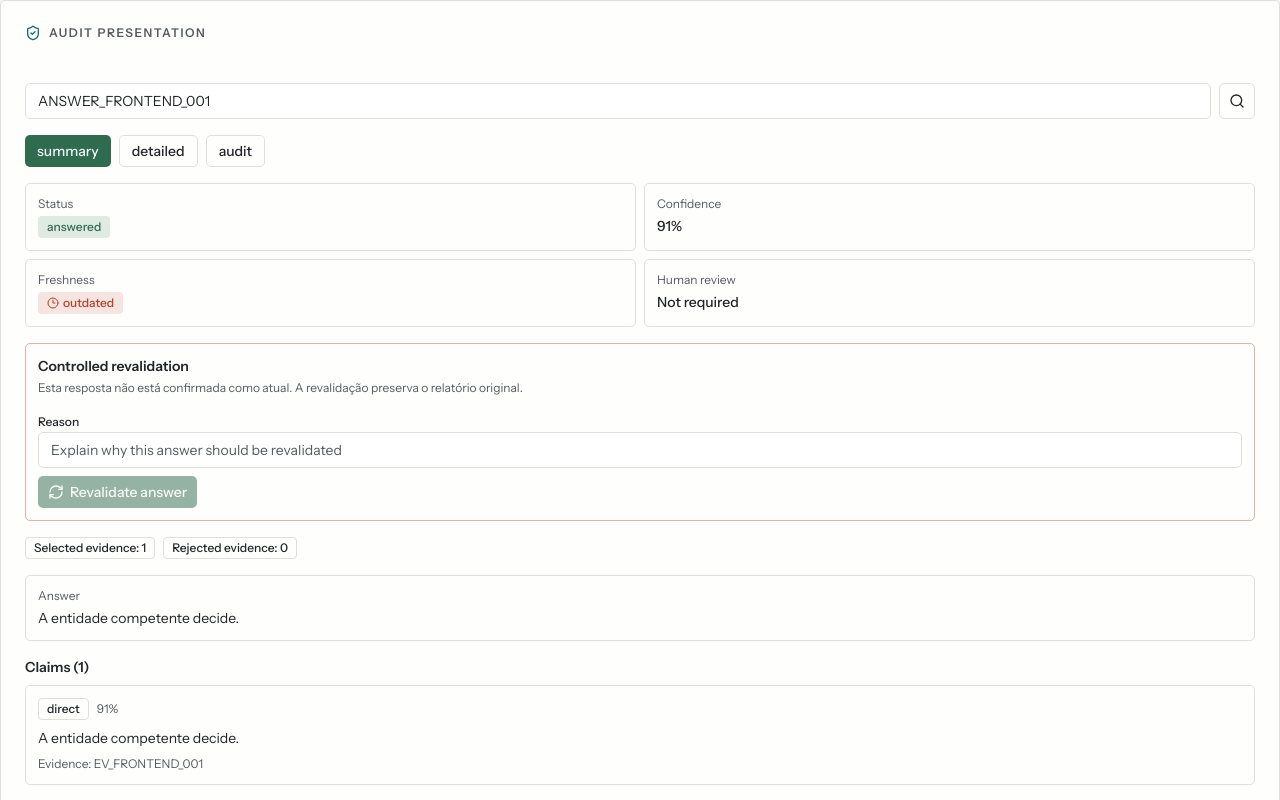
Test: AuditPresentationPanel › revalidates a stale audit and exposes the new identifiers
Expected: the text "outdated" is shown, [38,292,123,314]
Type "Document changed." into the field labelled "Reason". click: (640, 450)
box: [38,432,1242,468]
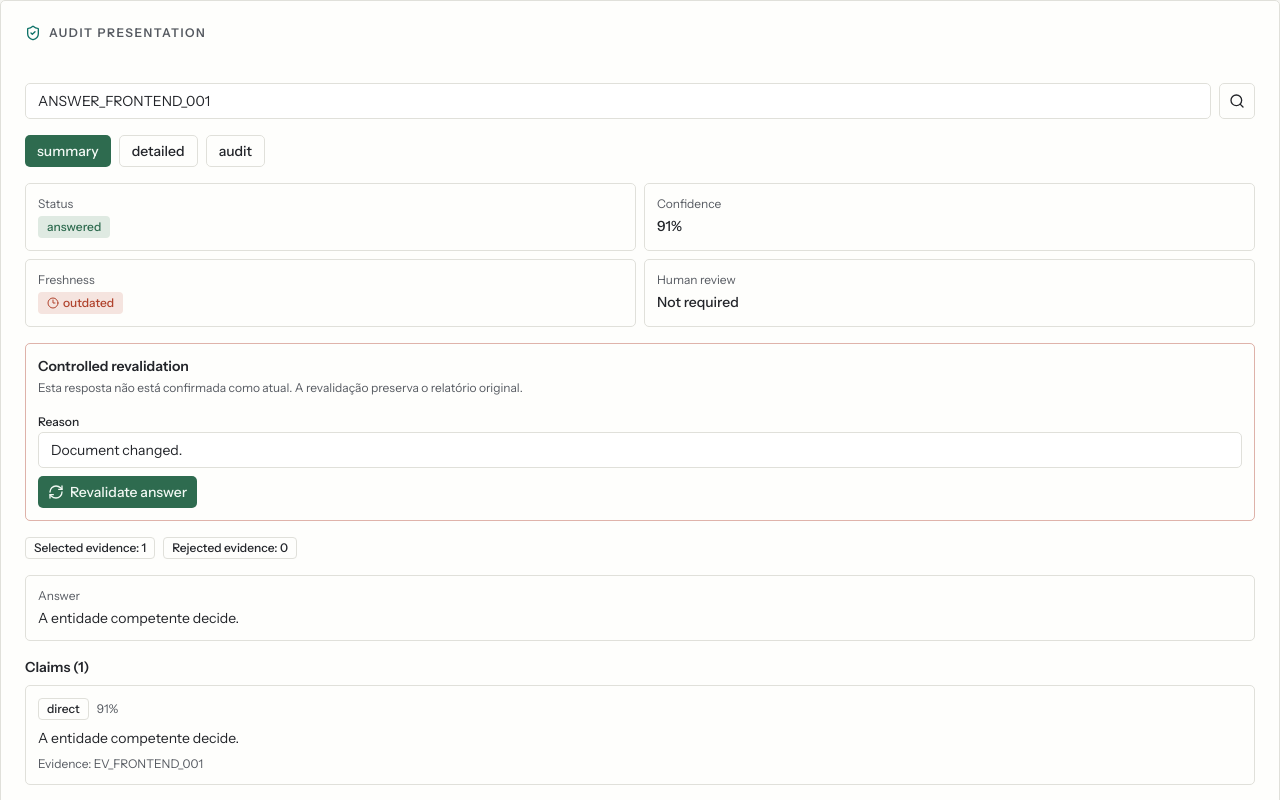
Click the button "Revalidate answer". click: (118, 492)
box: [38,476,197,508]
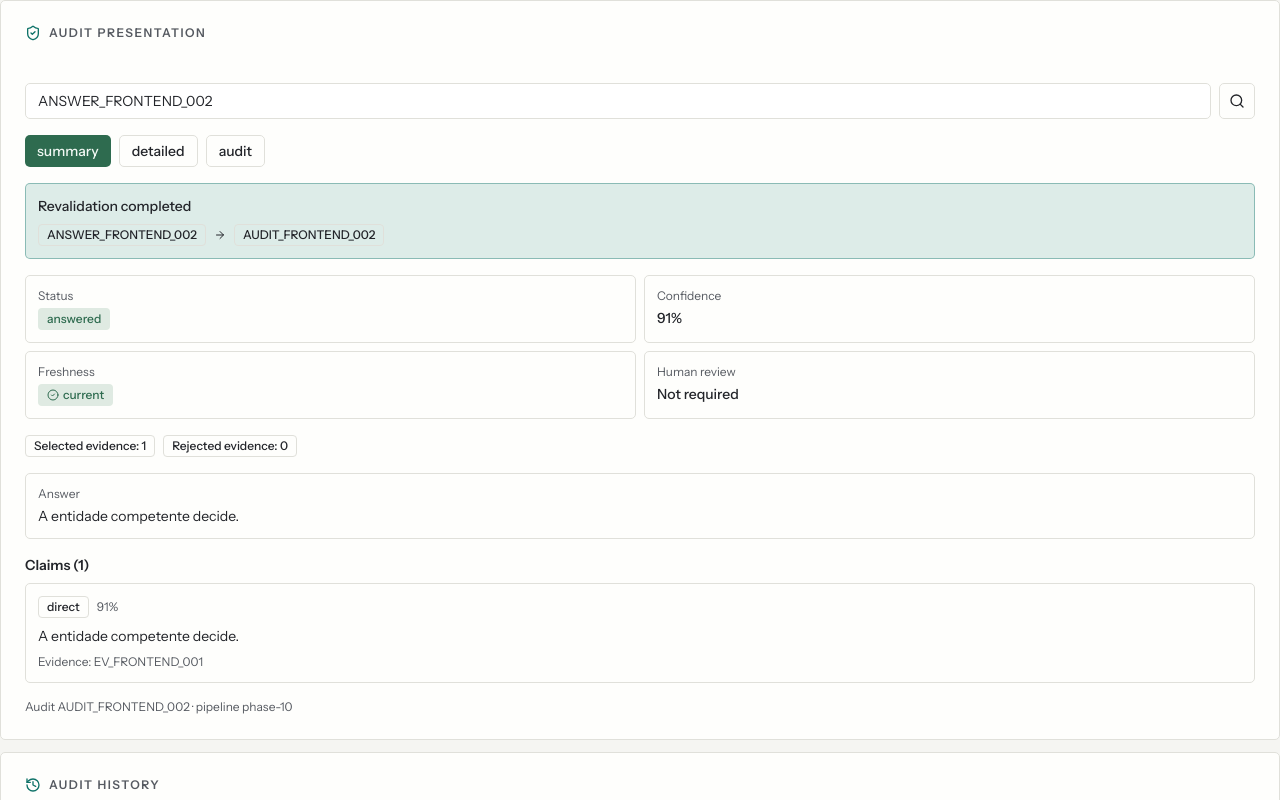
Expected: the text "AUDIT_FRONTEND_002" is shown, [234,224,384,246]
Expected: the text "ANSWER_FRONTEND_002" is shown, [38,224,206,246]
